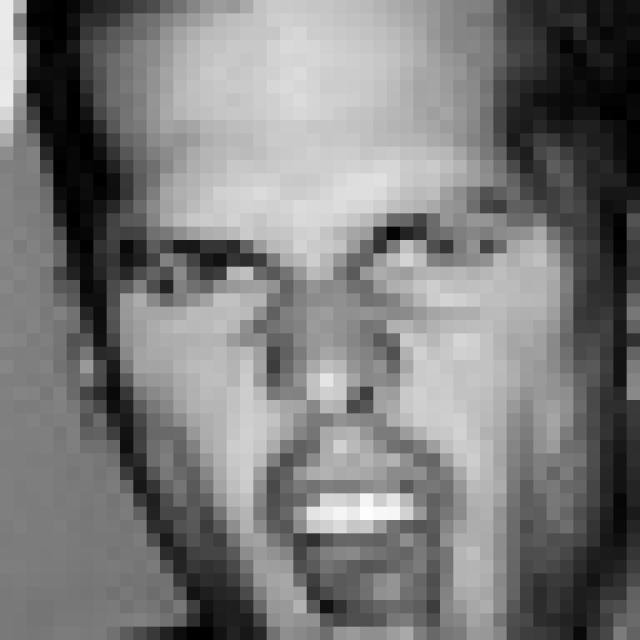angry: (107, 190, 518, 640)
